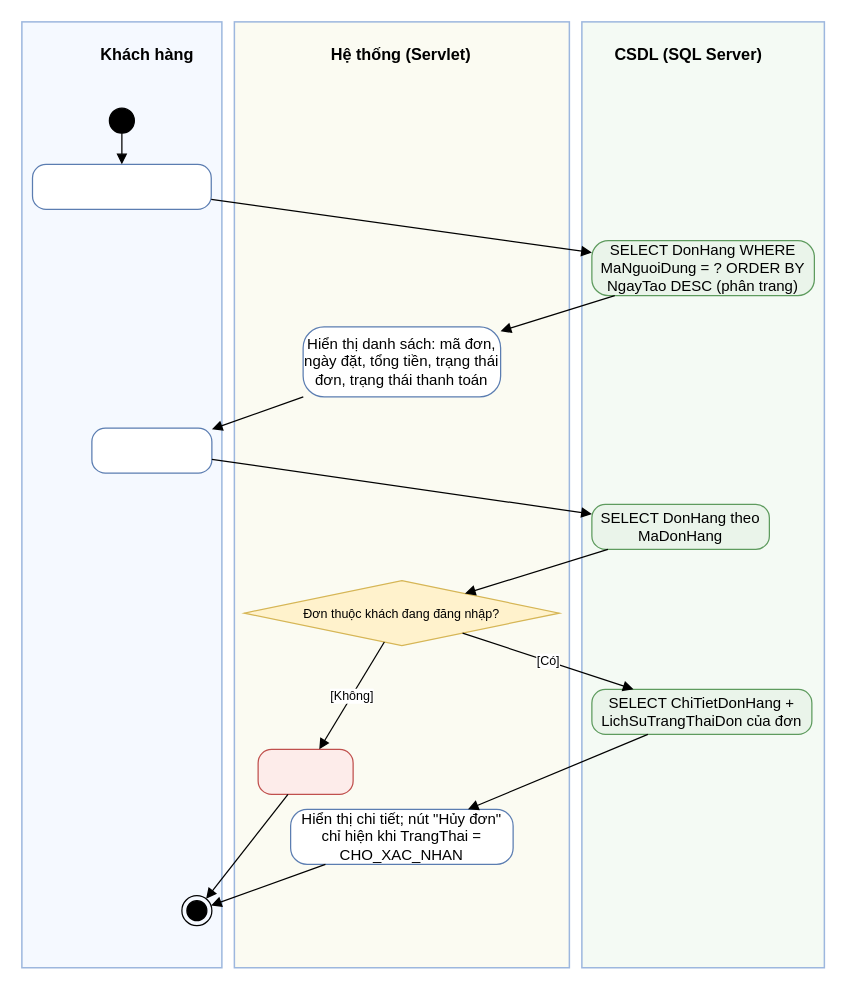
The diagram is 848 pixels wide and 990 high, and some of its shapes have lost their labels. Each missing label, with the centre of its shape:
Chọn một đơn: (x=151, y=450)
Mở "Đơn hàng của tôi": (x=121, y=186)
Trả về 403: (x=305, y=771)
